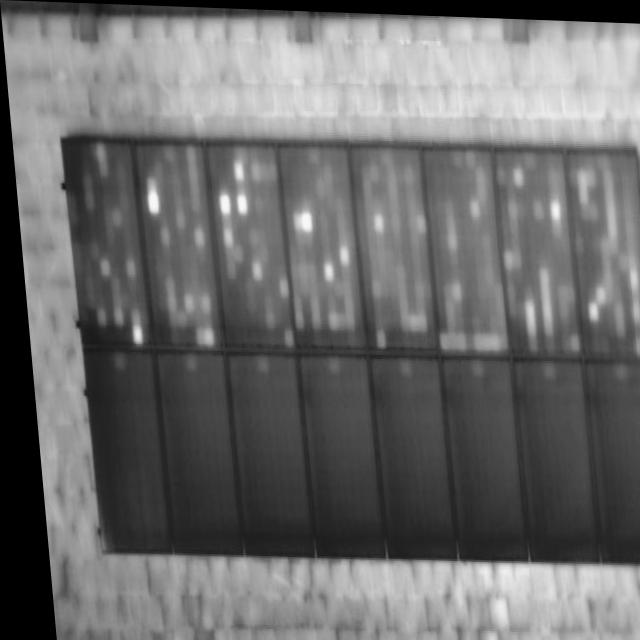Hotspot: (60, 139, 640, 563)
